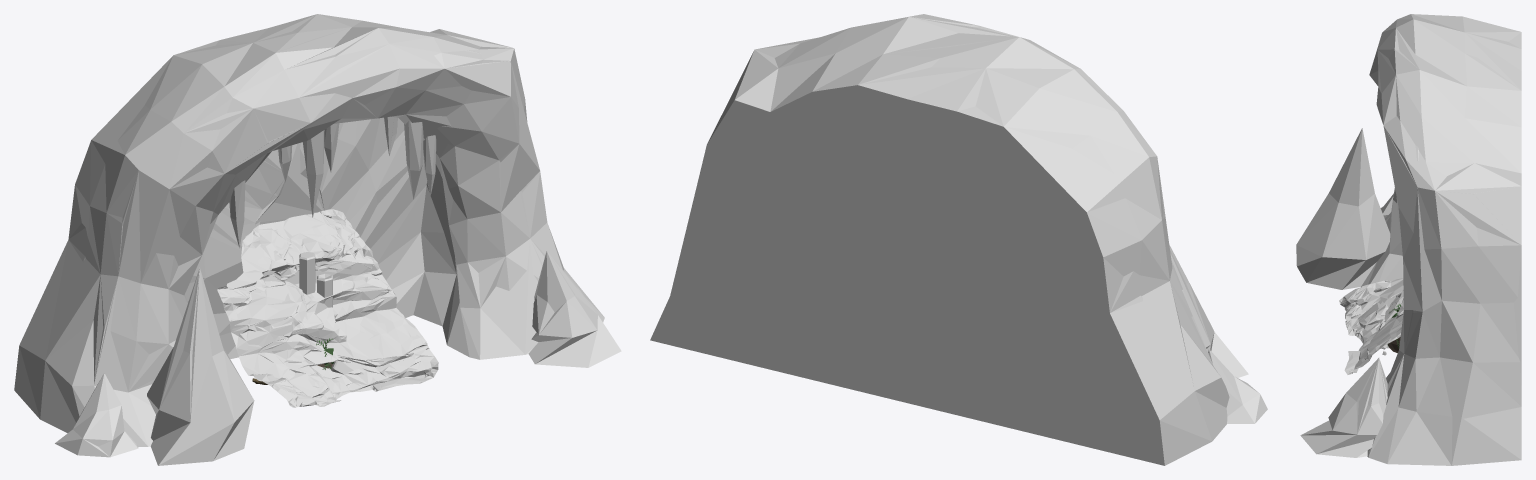
Rendered from rocks.glb.
The picture shows the model from 3 angles, left to right: view 1: azimuth 30°, elevation 25°; view 2: azimuth 150°, elevation 25°; view 3: azimuth 270°, elevation 25°; orthographic projection. The views are drawn at different scales.
Parts seen in each view (by area): view 1: rock~cave@0, rock~cave@1, rock~face@0, rock~face@1, rock~basalt@0, rock~basalt@1; view 2: rock~cave@0, rock~cave@1; view 3: rock~cave@0, rock~cave@1, rock~face@0, rock~face@1.
Part boxes in pixels (x1,y1,x2,y2): rock~cave@0: (14, 14, 621, 465); rock~cave@1: (19, 14, 597, 457); rock~face@0: (217, 209, 438, 407); rock~face@1: (217, 209, 437, 407); rock~basalt@0: (299, 252, 352, 374); rock~basalt@1: (299, 257, 353, 374); rock~cave@0: (650, 14, 1267, 465); rock~cave@1: (651, 17, 1242, 464); rock~cave@0: (1296, 14, 1521, 465); rock~cave@1: (1357, 16, 1521, 465); rock~face@0: (1339, 278, 1403, 374); rock~face@1: (1339, 278, 1403, 373).
Bounding box in the file's own units: 25.31 × 14.67 × 9.87.
Materials: 2 (1 with a texture image).
